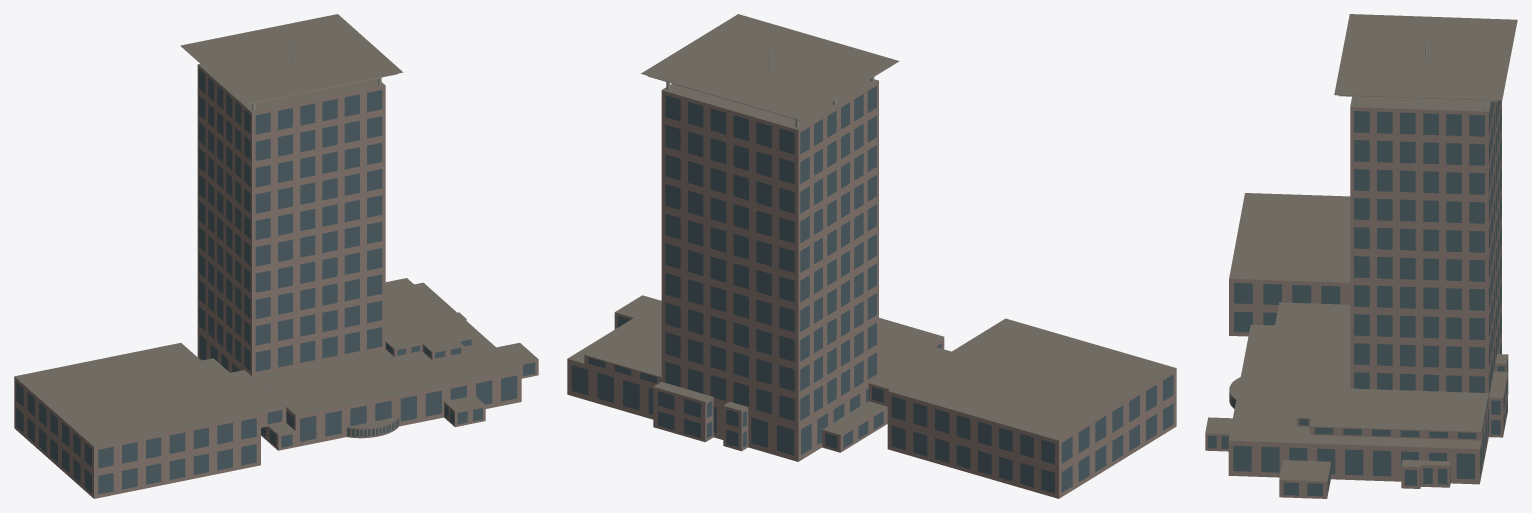
The model's file is hotel-okura-amsterdam-far.glb.
3 renders of one model, left to right at view 1: azimuth 30°, elevation 25°; view 2: azimuth 150°, elevation 25°; view 3: azimuth 270°, elevation 25°, orthographic. The views are drawn at different scales.
Parts seen in each view (by area): view 1: hotel-okura-amsterdam-0-roof, hotel-okura-amsterdam-0-stone, hotel-okura-amsterdam-0-glass; view 2: hotel-okura-amsterdam-0-stone, hotel-okura-amsterdam-0-glass, hotel-okura-amsterdam-0-roof; view 3: hotel-okura-amsterdam-0-roof, hotel-okura-amsterdam-0-stone, hotel-okura-amsterdam-0-glass.
Boxes of the visible parts, <box> form: hotel-okura-amsterdam-0-roof: <box>14,14,538,446</box>; hotel-okura-amsterdam-0-stone: <box>14,64,538,498</box>; hotel-okura-amsterdam-0-glass: <box>16,69,535,494</box>; hotel-okura-amsterdam-0-stone: <box>567,81,1176,498</box>; hotel-okura-amsterdam-0-glass: <box>571,86,1173,493</box>; hotel-okura-amsterdam-0-roof: <box>567,14,1176,440</box>; hotel-okura-amsterdam-0-roof: <box>1205,14,1517,481</box>; hotel-okura-amsterdam-0-stone: <box>1205,101,1508,498</box>; hotel-okura-amsterdam-0-glass: <box>1207,101,1507,496</box>.
Bounding box in the file's own units: 121 × 81.5 × 64.42.
